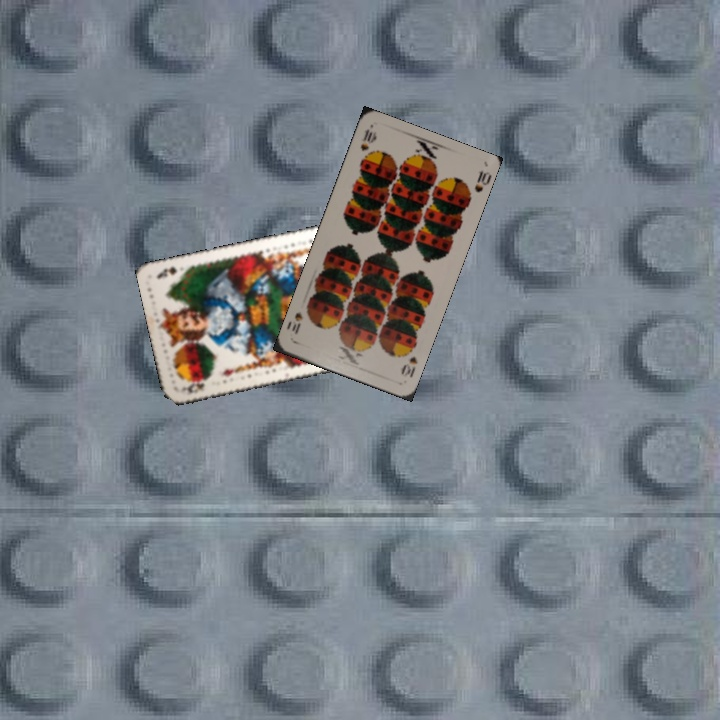S10: (397, 342, 420, 380), (356, 125, 378, 153)
SK: (176, 376, 211, 396)
